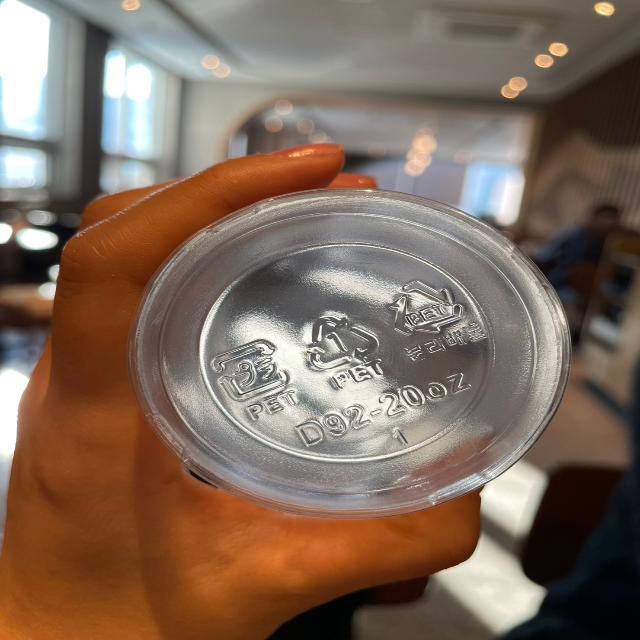pet: (385, 268, 489, 363), (206, 333, 300, 425), (307, 306, 392, 392)
